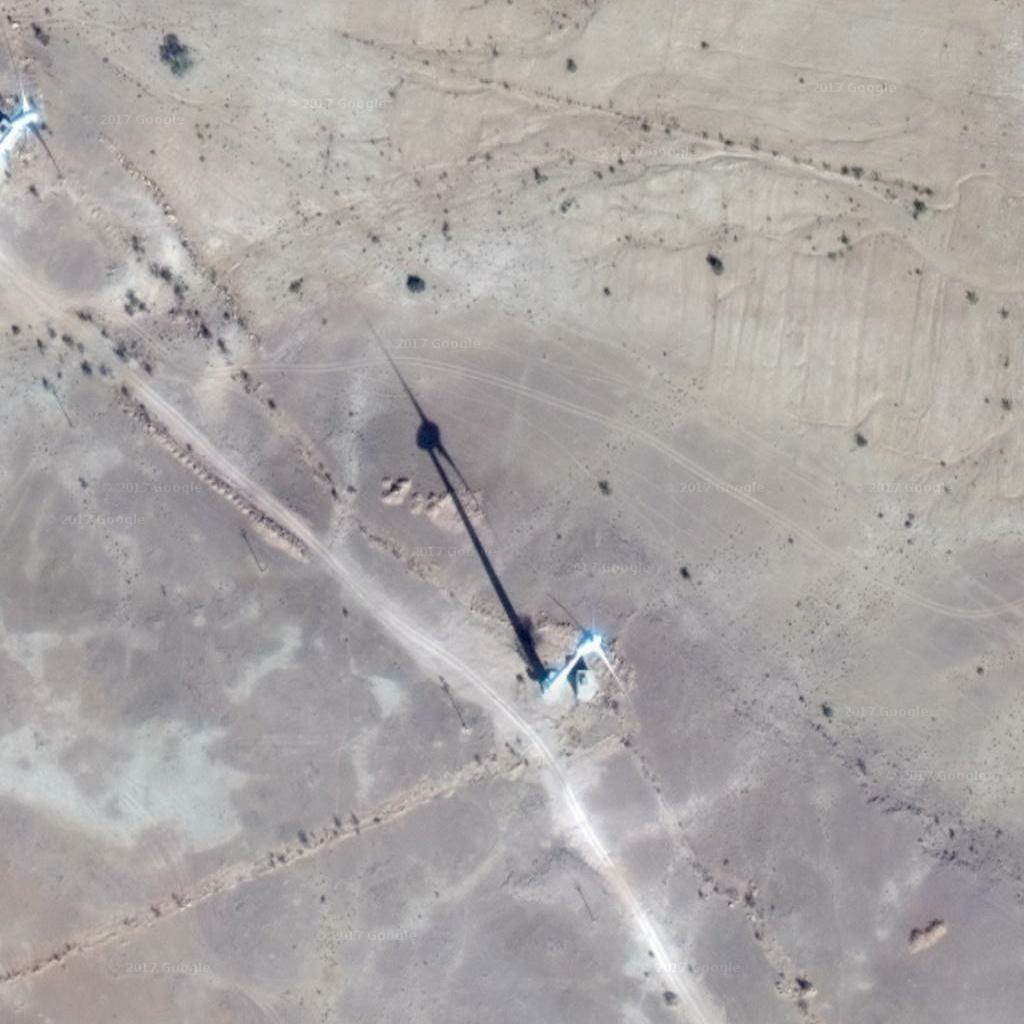Windmill: (373, 341, 556, 673)
